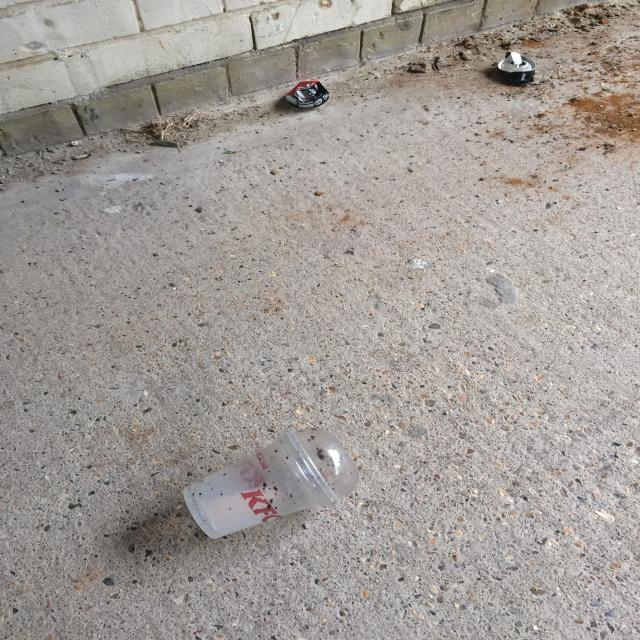Disposable plastic cup: (183, 430, 341, 539)
Drink can: (285, 81, 329, 110), (498, 56, 536, 85)
Plastic lid: (280, 427, 360, 511)
